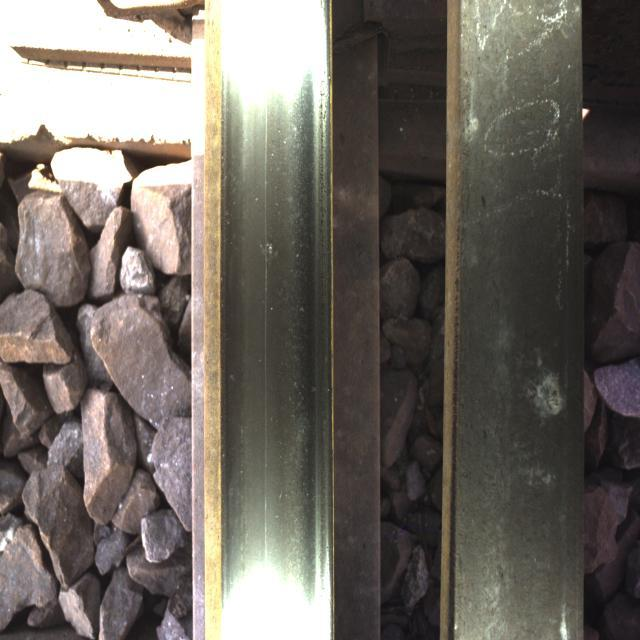break: (220, 65, 319, 573)
